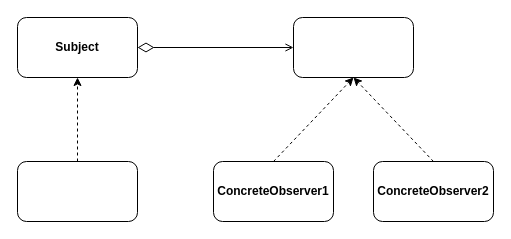
Image size: 511x239. Some labels were removed from this diagram. The shapes that lost their labels are listed below. From the top down, each one's centre as x and y in pixels, then its label:
At [353,47]: "Observer".
At [77,191]: "ConcreteSubject".
